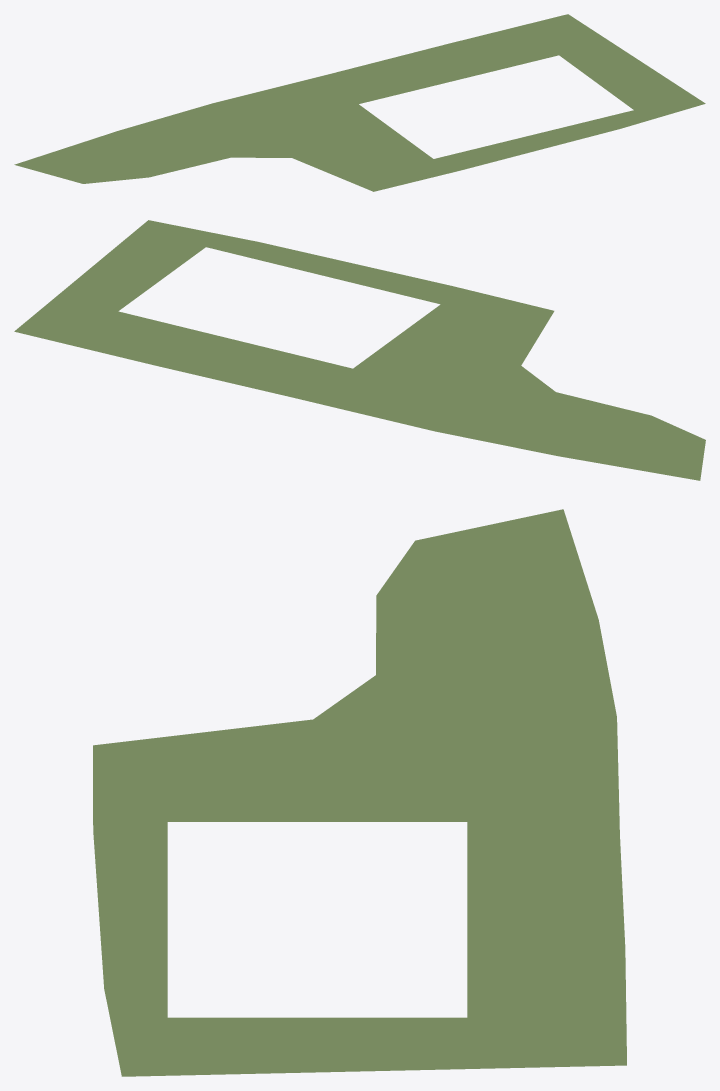
Rendered from kilmore_site_apron.glb.
3 views of the same model, one above another, from view 1: azimuth 30°, elevation 25°; view 2: azimuth 150°, elevation 25°; view 3: azimuth 270°, elevation 25° (orthographic). The views are drawn at different scales.
Visible parts, largest first — view 1: SM_Kilmore_ParkApron; view 2: SM_Kilmore_ParkApron; view 3: SM_Kilmore_ParkApron.
Part boxes in pixels (x1,y1,x2,y2): SM_Kilmore_ParkApron: [14, 14, 705, 191]; SM_Kilmore_ParkApron: [14, 220, 705, 480]; SM_Kilmore_ParkApron: [93, 509, 626, 1076].
Bounding box in the file's own units: 305 × 0 × 121.
